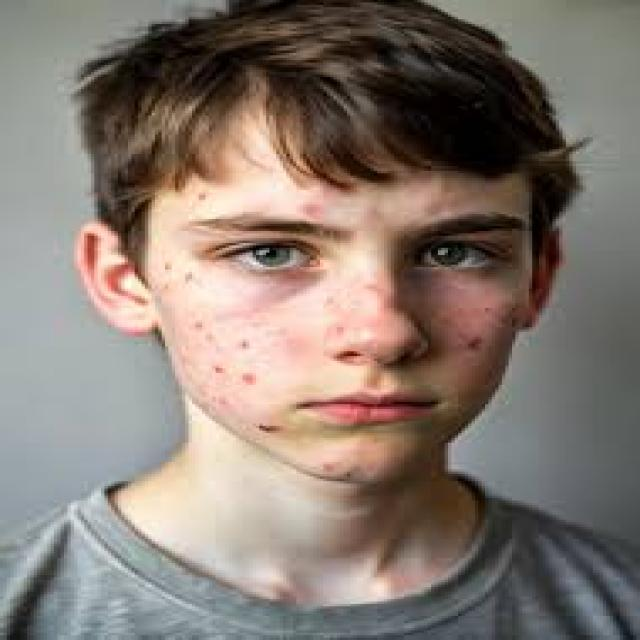Acne: (160, 264, 278, 412), (454, 308, 509, 380)
